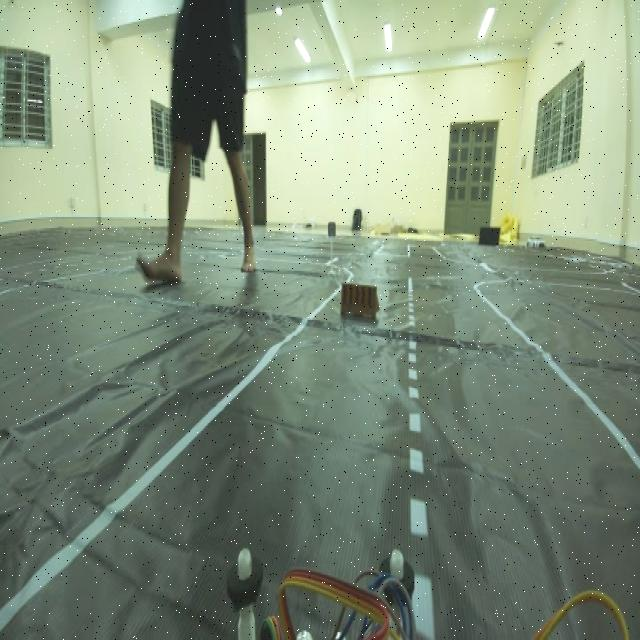roadblock: (336, 271, 387, 331)
